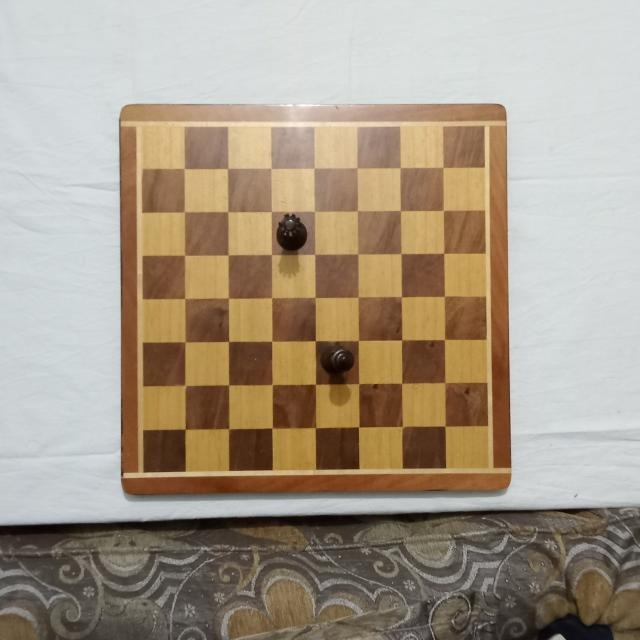black-king: (323, 346, 355, 376)
black-queen: (276, 212, 309, 252)
